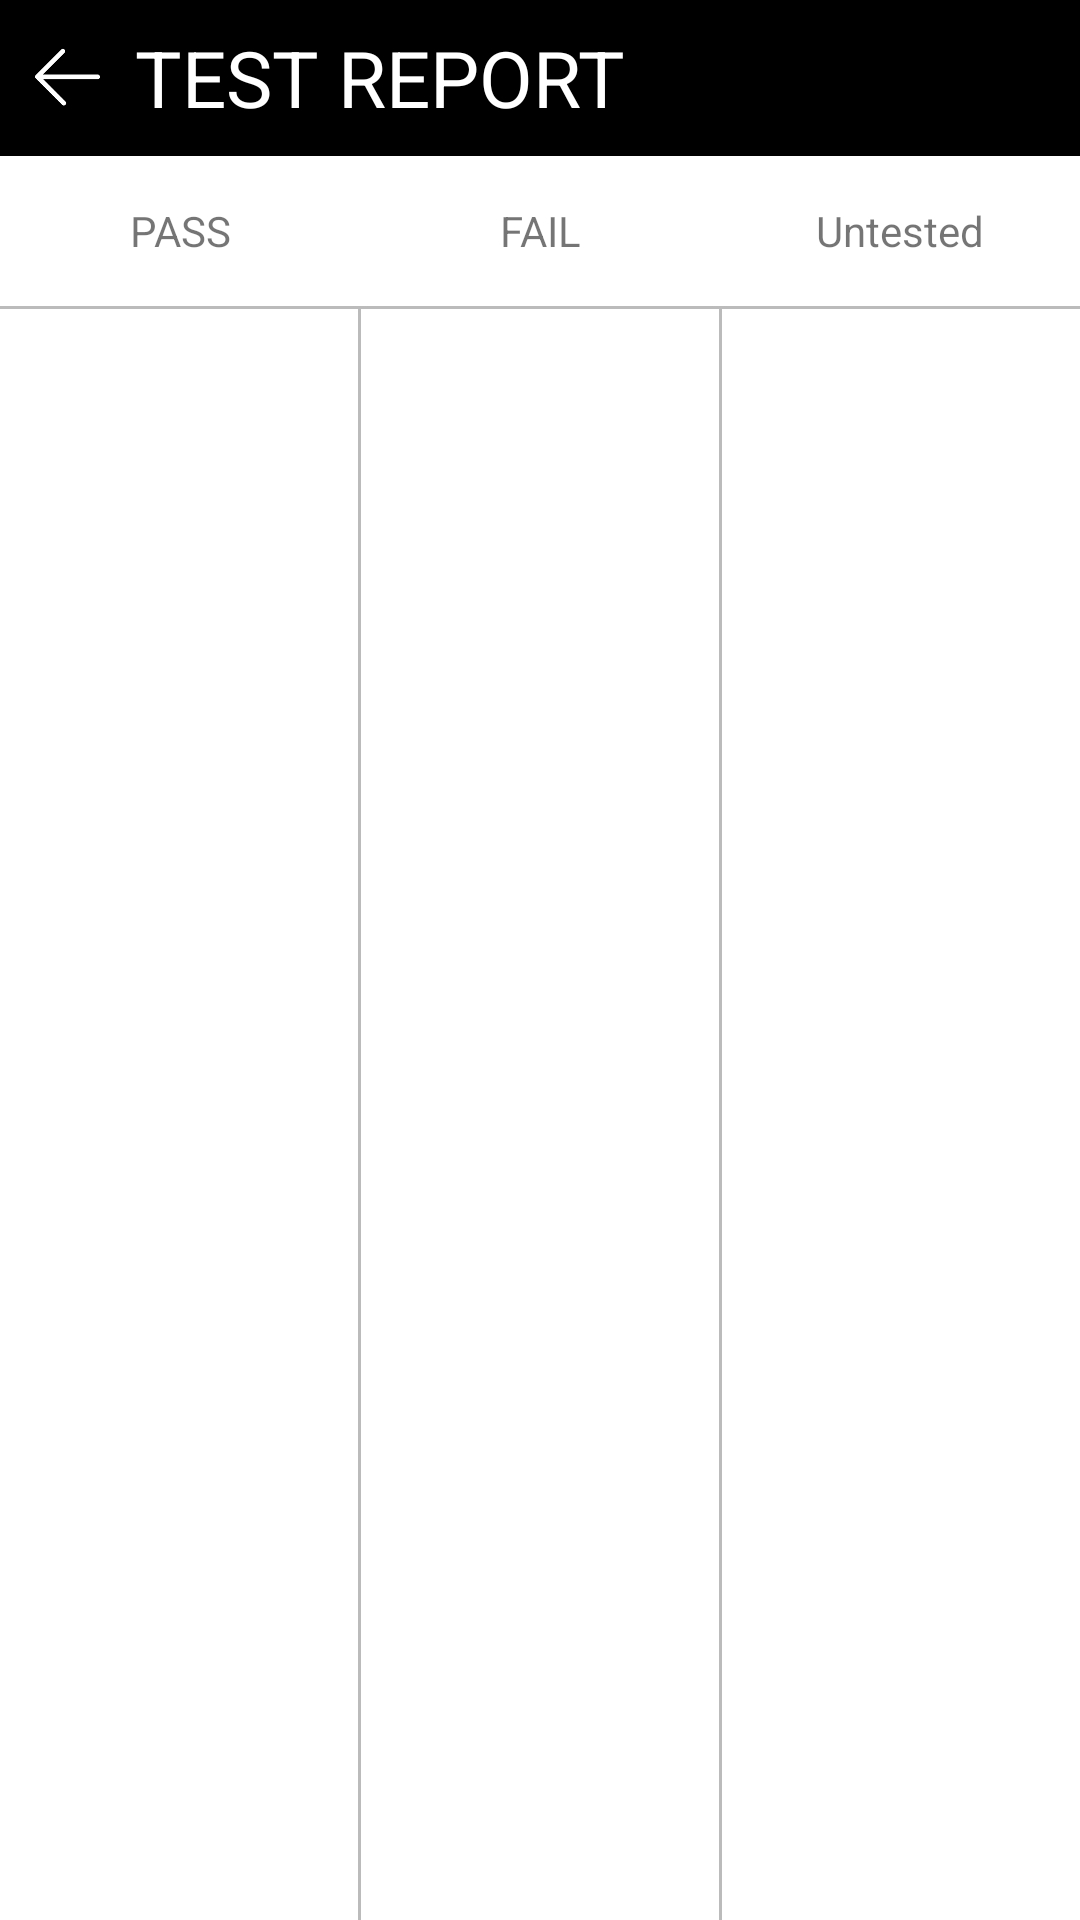

Icon click points for this 1080 × 1920 phone screenshot, format [x,y]:
back: [67,77]
